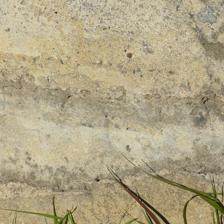Crack: (2, 80, 221, 116)
